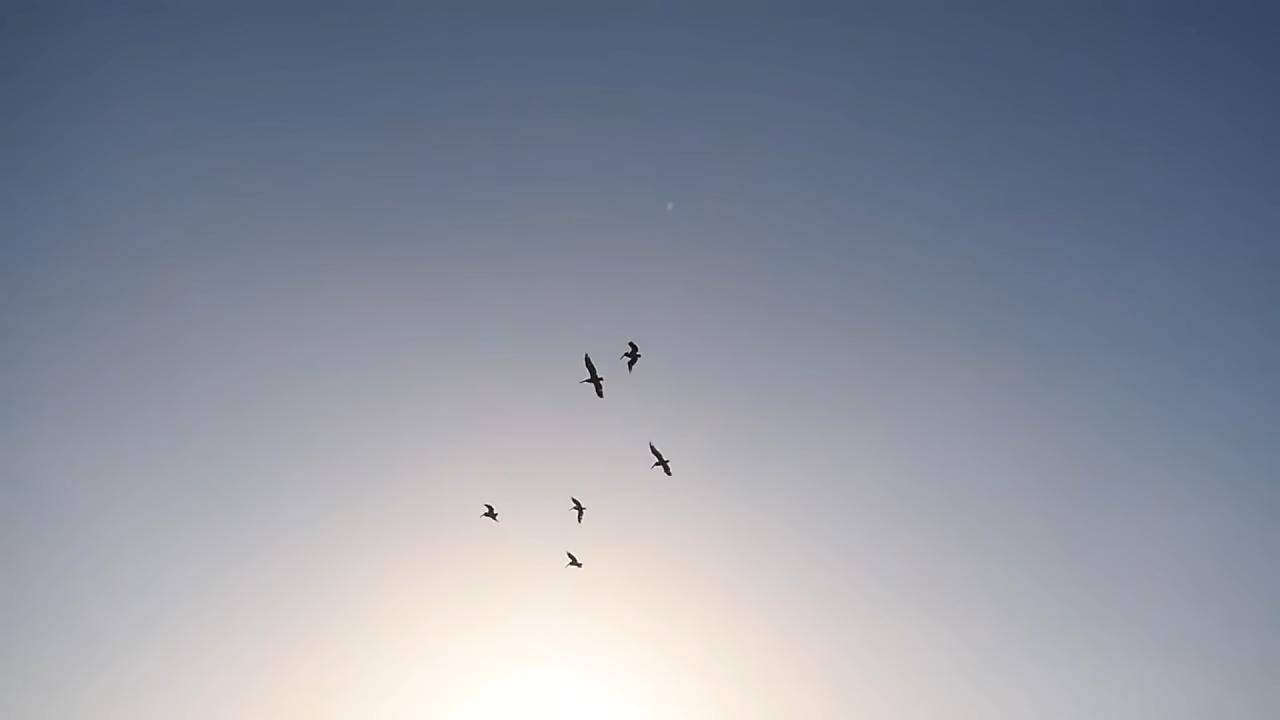Bird: (574, 345, 610, 404), (642, 437, 676, 481), (616, 334, 646, 380), (564, 490, 592, 527), (560, 544, 588, 574), (475, 497, 502, 525)
